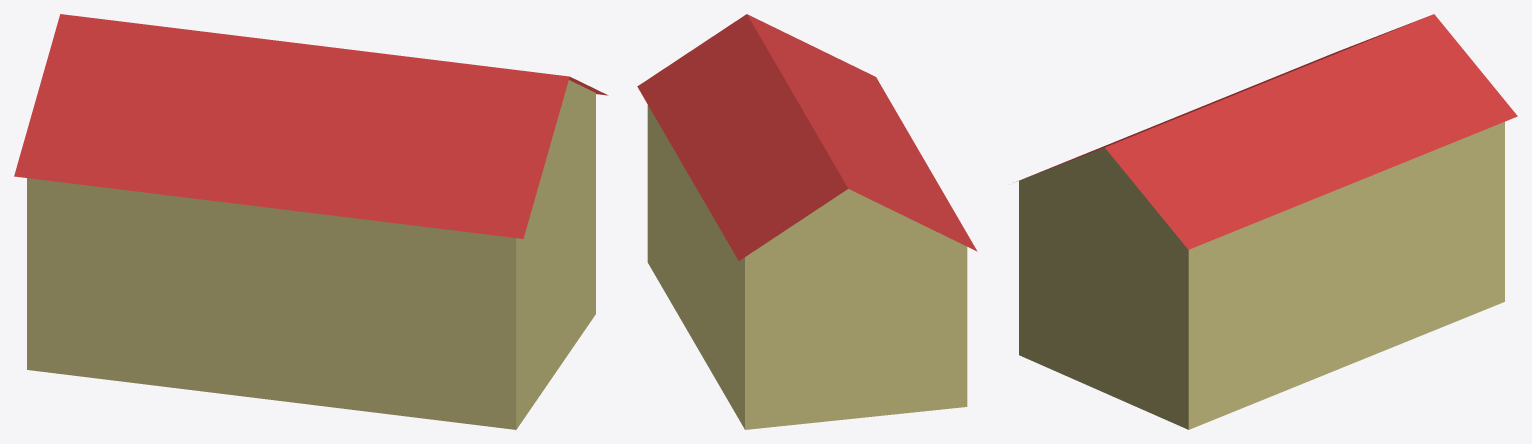
3 renders of one model, left to right at view 1: azimuth 30°, elevation 25°; view 2: azimuth 150°, elevation 25°; view 3: azimuth 270°, elevation 25°, orthographic. The views are drawn at different scales.
Bounding box in the file's own units: 13.94 × 14.1 × 7.63.
